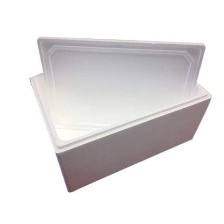foam_box: (25, 29, 215, 196)
